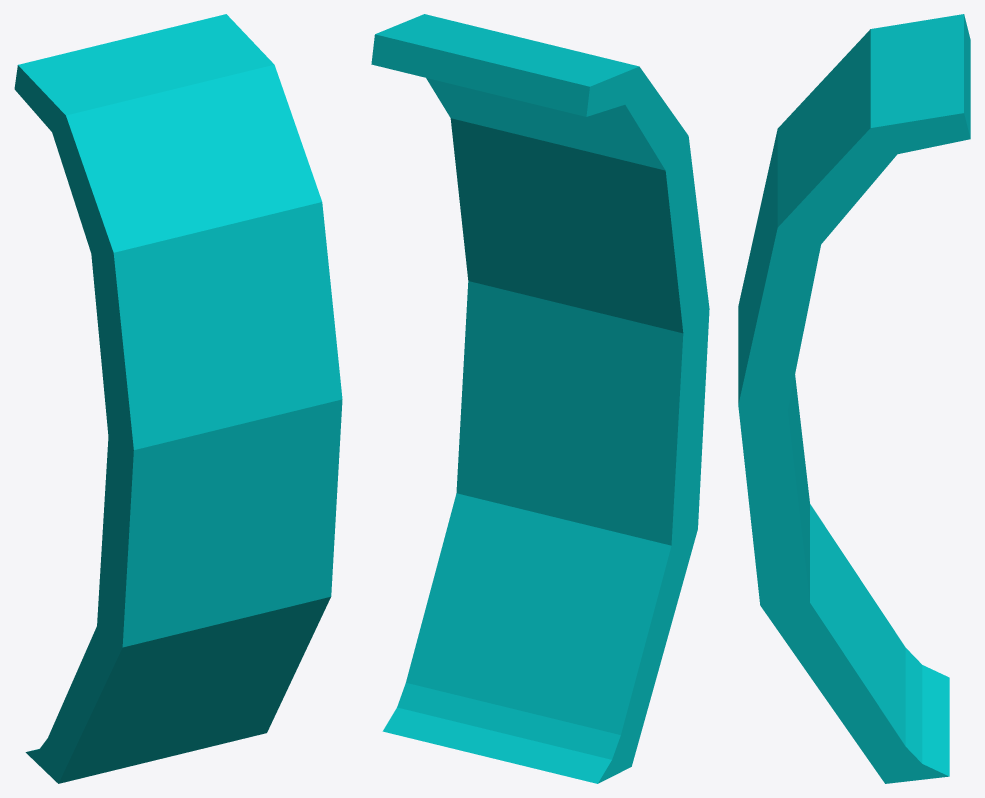
Rendered from gripper_right_arm_collision_mesh.dae.
3 views of the same model, side by side, from view 1: azimuth 30°, elevation 25°; view 2: azimuth 150°, elevation 25°; view 3: azimuth 270°, elevation 25° (orthographic). The views are drawn at different scales.
Parts seen in each view (by area): view 1: gripper_right_arm_collision; view 2: gripper_right_arm_collision; view 3: gripper_right_arm_collision.
Boxes of the visible parts, <box> form: gripper_right_arm_collision: <box>14,14,342,783</box>; gripper_right_arm_collision: <box>371,14,709,783</box>; gripper_right_arm_collision: <box>738,14,970,783</box>.
Size of the model in its own units: 0.193 by 0.1913 by 0.6093.
